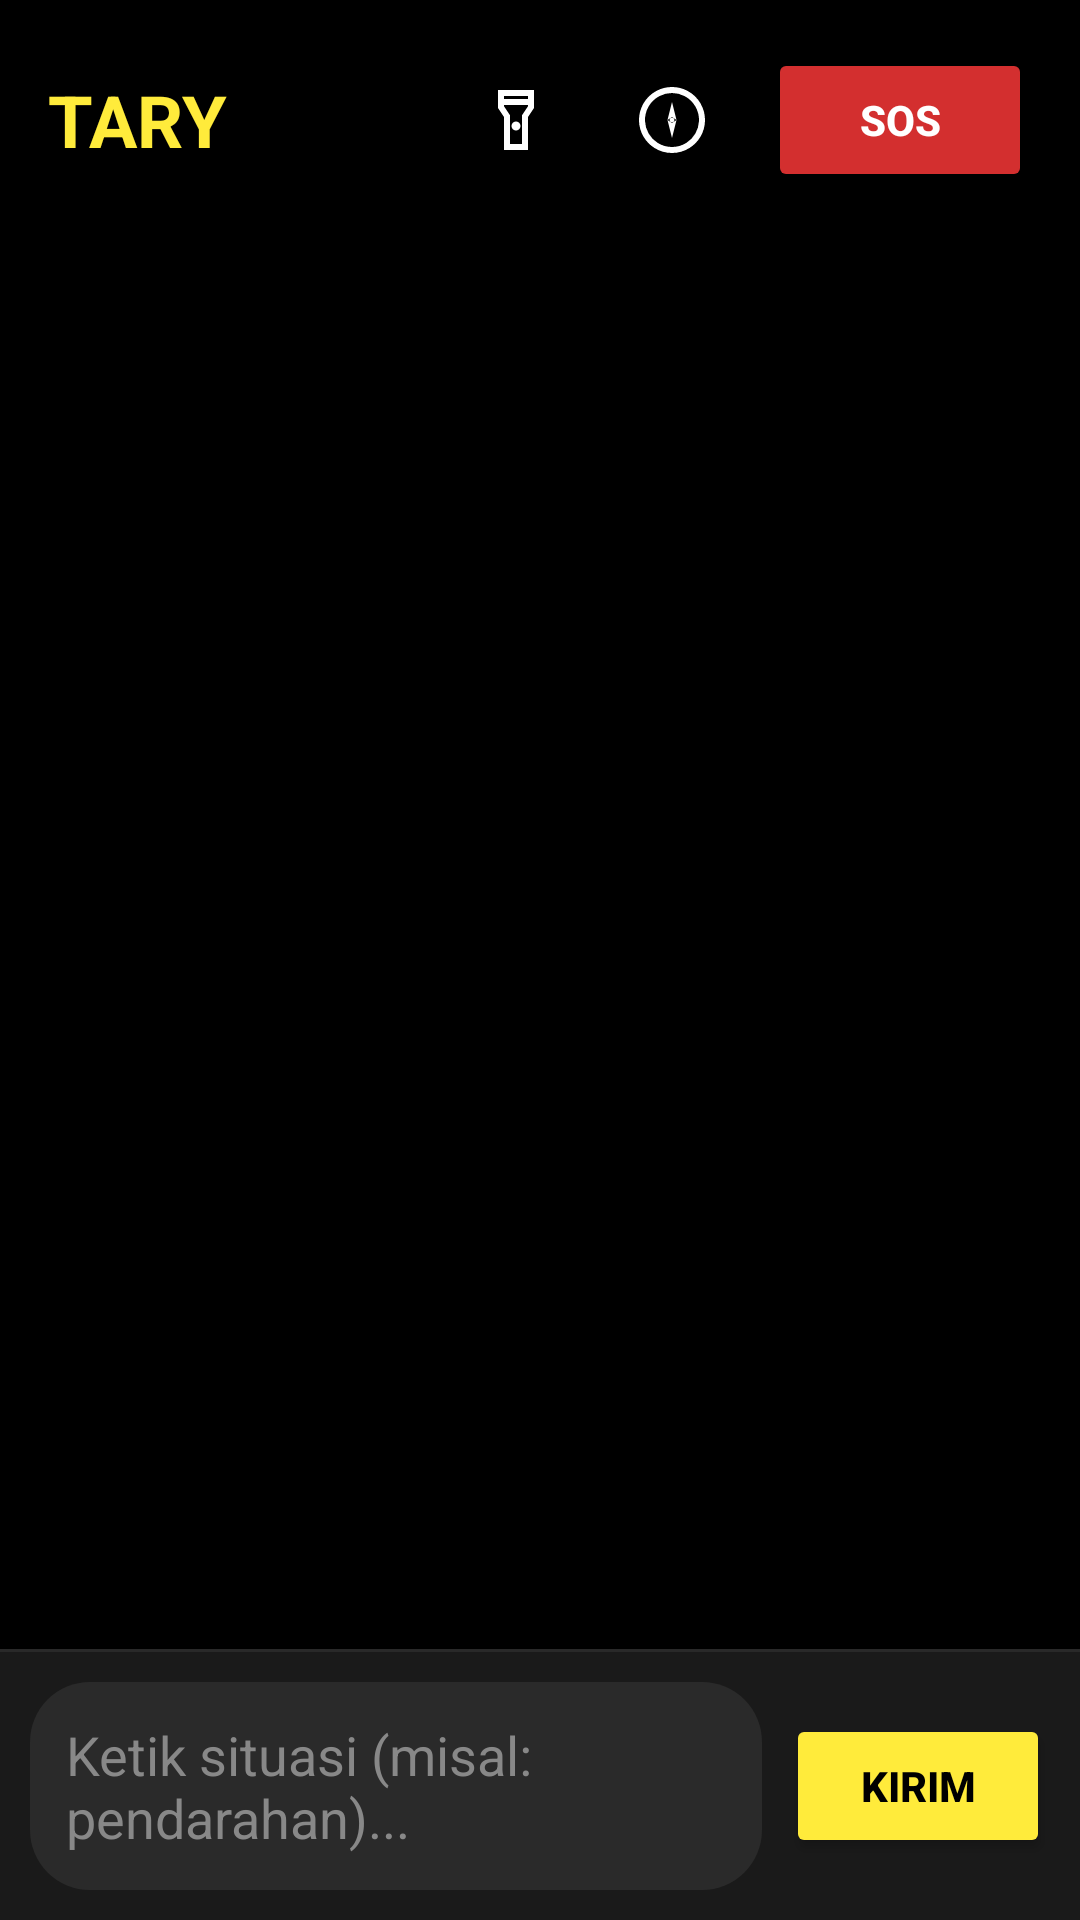

Icon click points for this 1080w x 1920h phone screenshot, format (x,y):
Toggle Kompas: (672,120)
Toggle Senter: (516,120)
